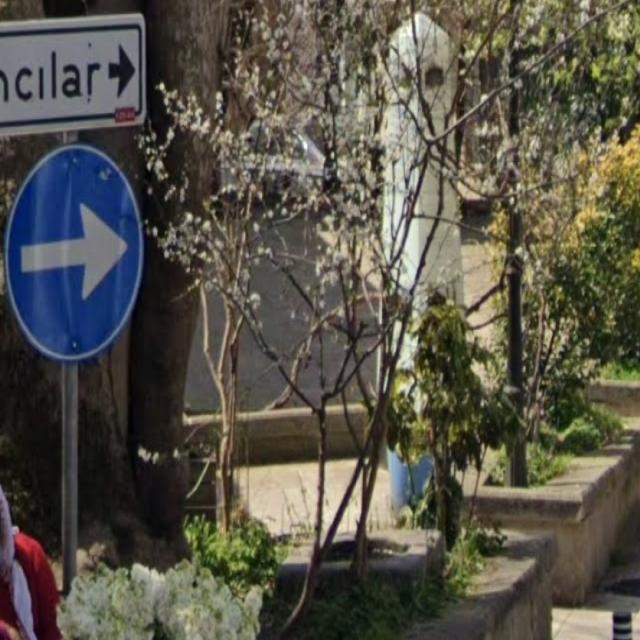Turn Right: (1, 136, 143, 364)
